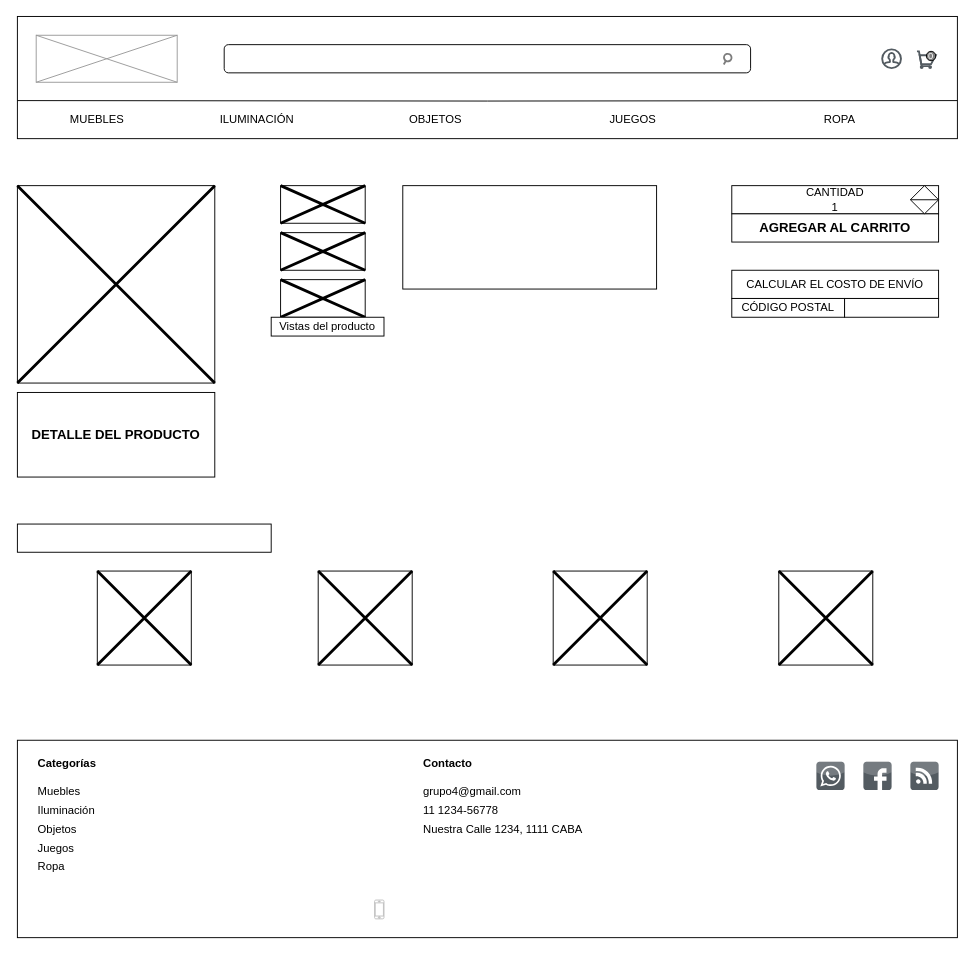
Image size: 975x954. Some labels were removed from this diagram. The centre of each missing label's shape, as x and y in pixels:
"CALCULAR" goes at point (891, 307).
"NOMBRE DEL PRODUCTO PRECIO FORMAS DE PAGO" goes at point (529, 237).
"PRODUCTOS SIMILARES" goes at point (143, 537).
"¿Qué estás buscando?" goes at point (487, 58).
